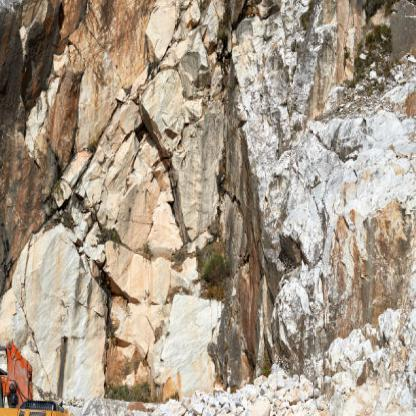Sedimentary_Limestone: (61, 107, 176, 294), (156, 100, 237, 250)
